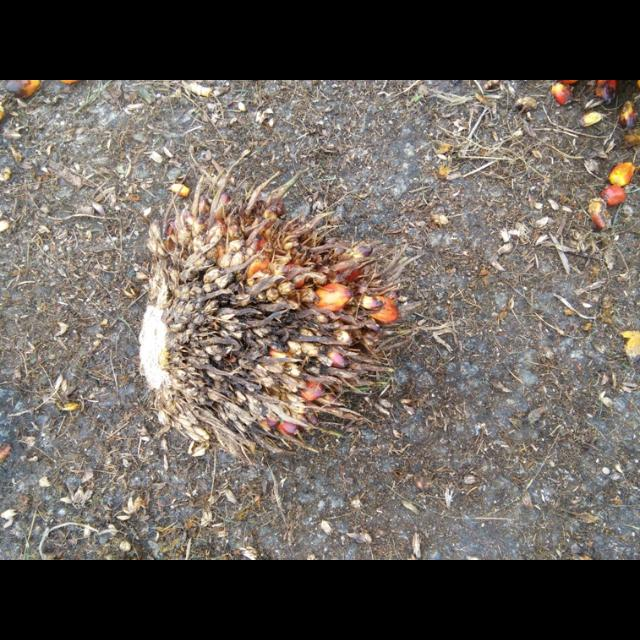Overripe: (159, 176, 396, 454)
